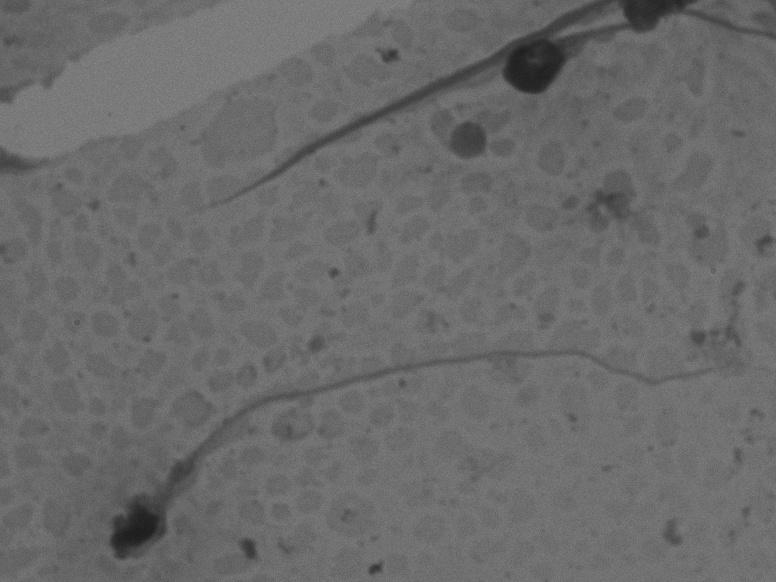Abnormal: (68, 274, 751, 579)
